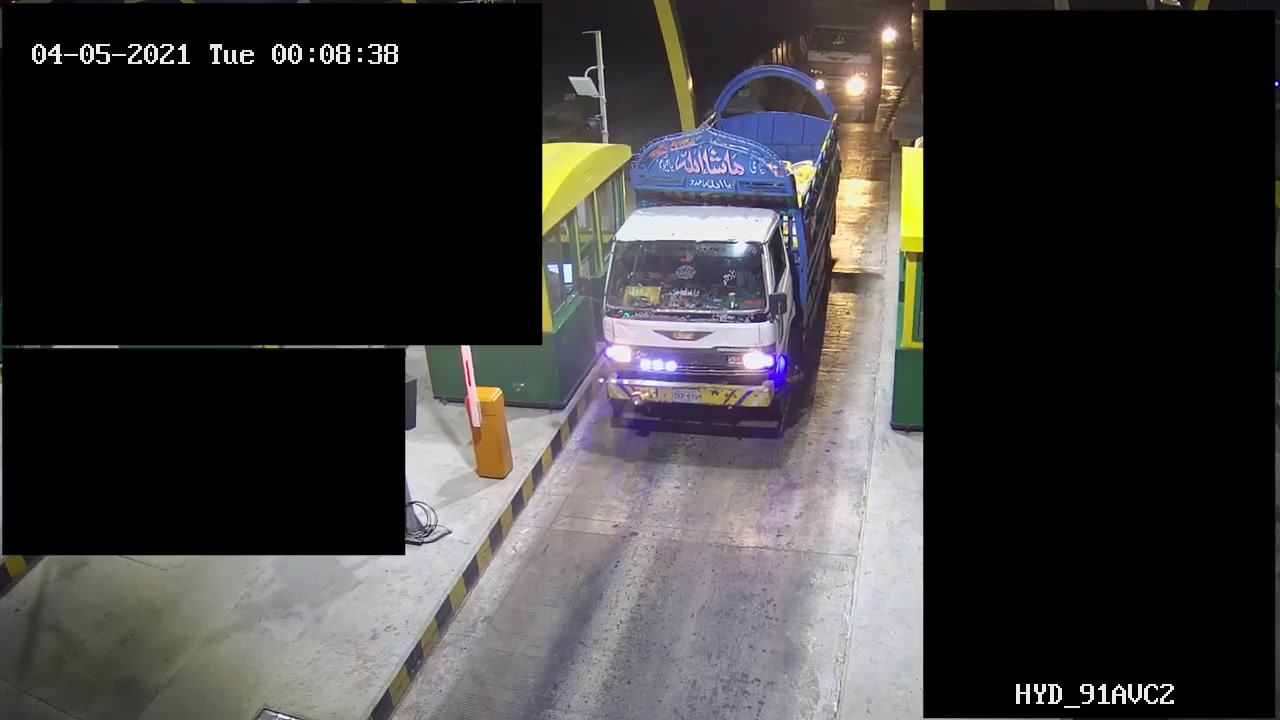F5: (595, 62, 848, 442)
